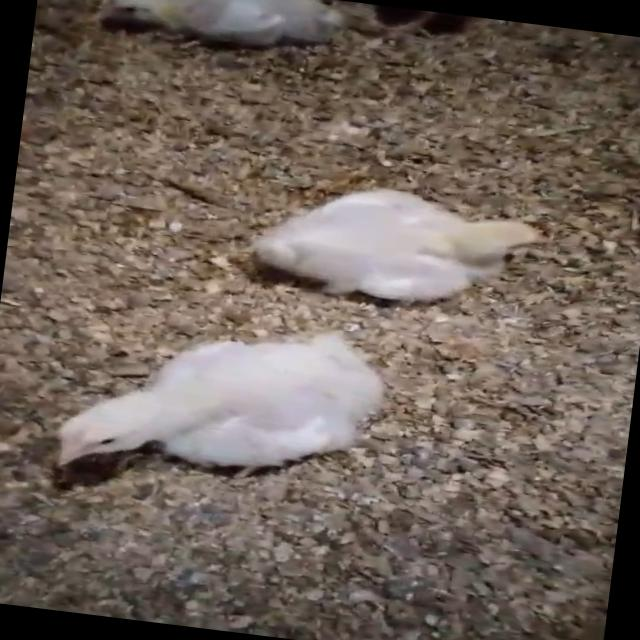sleeping chickens: (30, 296, 400, 509), (240, 152, 580, 332)
